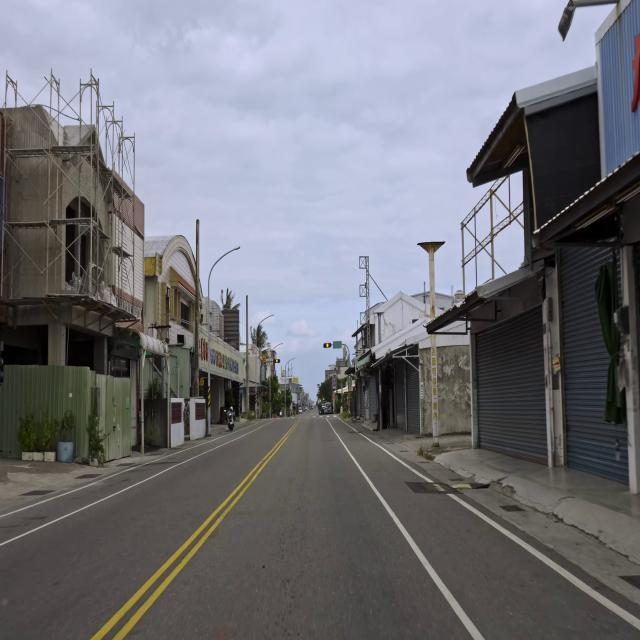yellow light: (323, 342, 331, 348), (274, 359, 280, 363)
